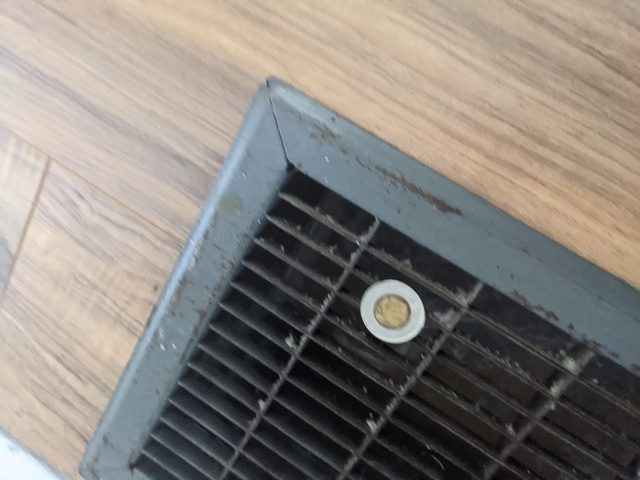twonie: (356, 269, 425, 347)
